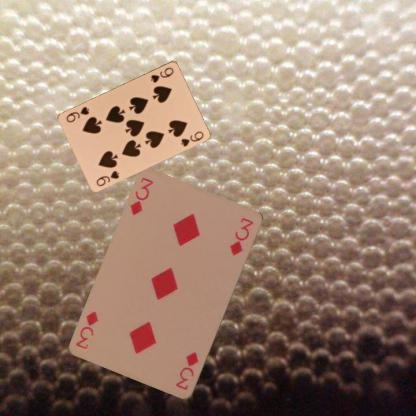3d: (173, 350, 200, 392), (128, 175, 155, 217)
9s: (149, 64, 175, 84), (93, 168, 120, 187)
